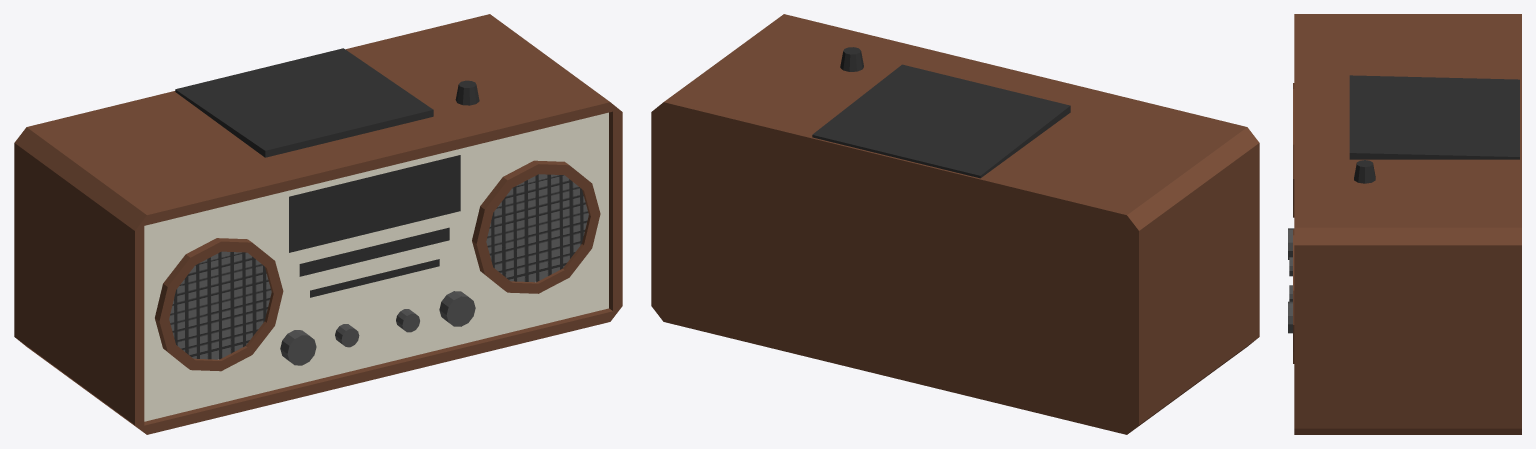
Rendered from radio_0412.fbx.
The picture shows the model from 3 angles, left to right: view 1: azimuth 30°, elevation 25°; view 2: azimuth 150°, elevation 25°; view 3: azimuth 270°, elevation 25°; orthographic projection. The views are drawn at different scales.
Visible parts, largest first — view 1: Box002; view 2: Box002; view 3: Box002.
Boxes of the visible parts, x1,y1,x2,y2 form: Box002: [14, 14, 622, 434]; Box002: [651, 14, 1259, 434]; Box002: [1288, 14, 1521, 434].
Bounding box in the file's own units: 56.54 × 26.14 × 24.86.
Materials: 1 (1 with a texture image).
